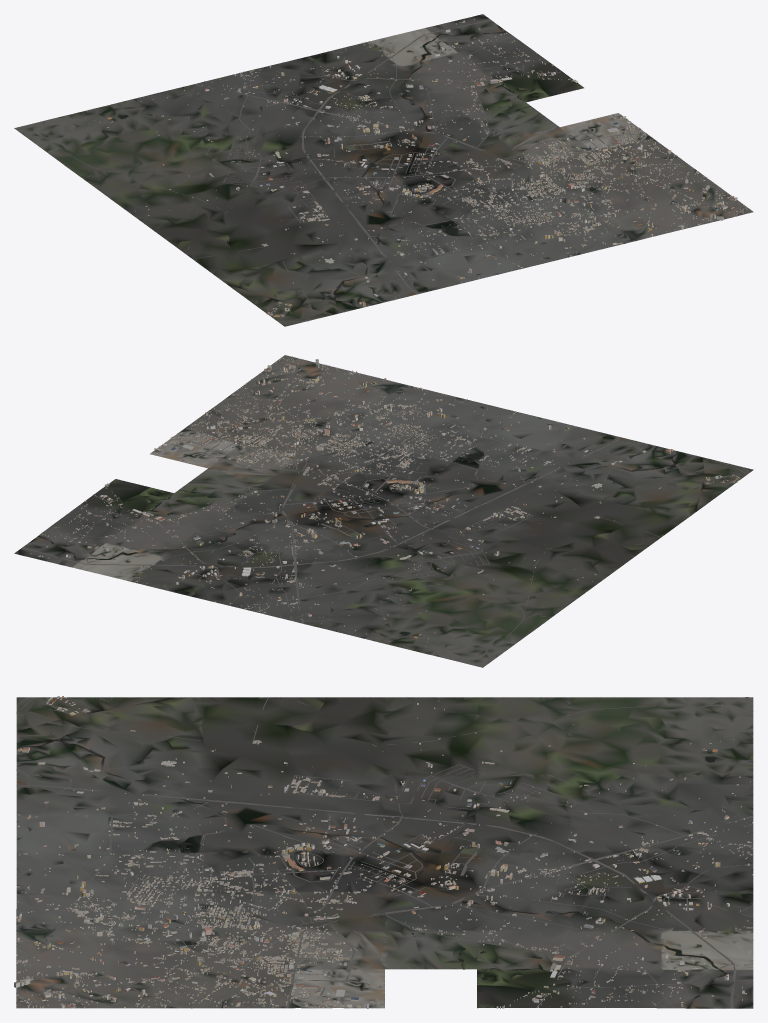
The picture shows the model from 3 angles, top to bottom: view 1: azimuth 30°, elevation 25°; view 2: azimuth 150°, elevation 25°; view 3: azimuth 270°, elevation 25°; orthographic projection. The views are drawn at different scales.
Visible parts, largest first — view 1: ground, buildings, roads, water; view 2: ground, buildings, roads, water; view 3: ground, buildings, roads, water.
Part boxes in pixels (left/top/right/bottom): ground: left=14, top=14, right=753, bottom=326; buildings: left=37, top=19, right=749, bottom=316; roads: left=35, top=19, right=746, bottom=322; water: left=118, top=15, right=720, bottom=308; ground: left=14, top=355, right=753, bottom=667; buildings: left=30, top=356, right=739, bottom=656; roads: left=21, top=357, right=746, bottom=662; water: left=18, top=364, right=702, bottom=635; ground: left=16, top=697, right=753, bottom=1008; buildings: left=14, top=696, right=753, bottom=1008; roads: left=16, top=697, right=753, bottom=1008; water: left=17, top=709, right=752, bottom=1008.
Bounding box in the file's own units: 11245 × 94.11 × 11254.
